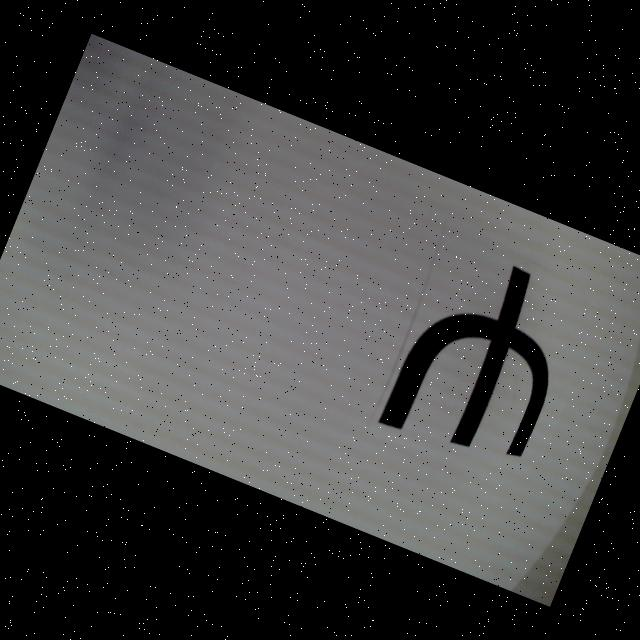PSI: (376, 238, 589, 478)
